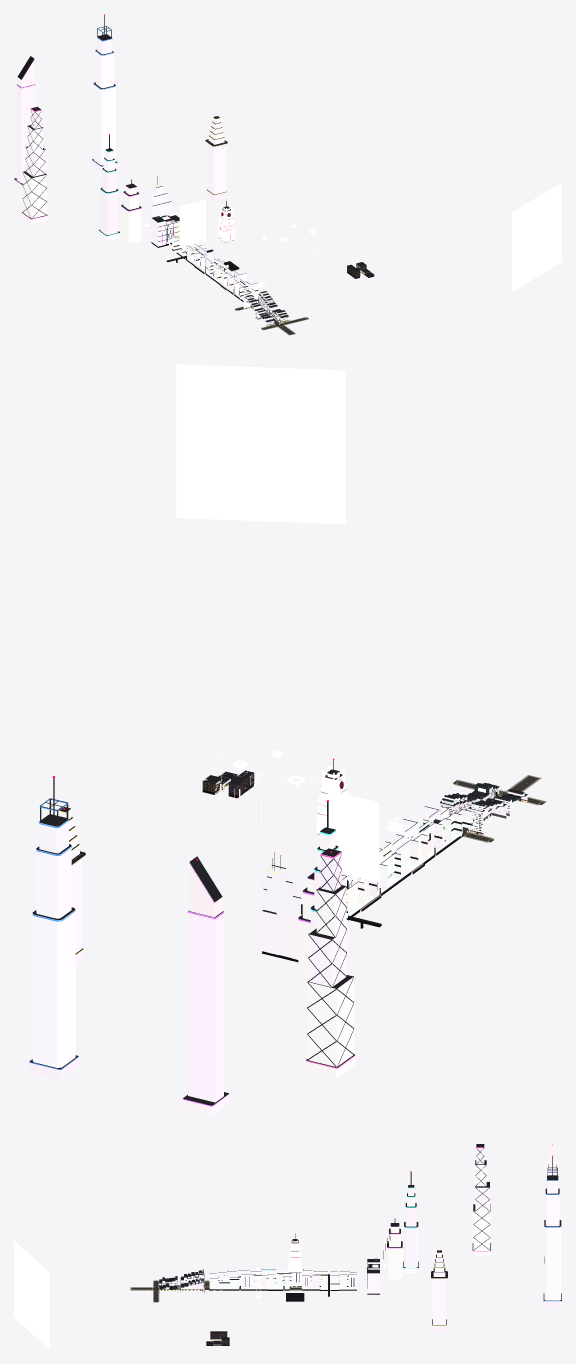
File: world-high.glb
3 renders of one model, top to bottom at view 1: azimuth 30°, elevation 25°; view 2: azimuth 150°, elevation 25°; view 3: azimuth 270°, elevation 25°, orthographic. The views are drawn at different scales.
Visible parts, largest first — view 1: skyline_facade, moon_disc, far_facade_end, far_facade, holo_figure, skyline_roof, avenue_facade, skyline_metal, far_glow, far_dark, far_trim, avenue_trim; view 2: skyline_facade, moon_disc, far_facade, far_facade_end, holo_figure, skyline_roof, skyline_metal, avenue_facade, far_glow; view 3: skyline_facade, moon_disc, far_facade, far_facade_end, skyline_roof, far_dark, far_trim, far_glow, skyline_metal, avenue_facade, avenue_roof, far_roof.
Boxes of the visible parts, left/top/right/bottom form: skyline_facade: left=14, top=37, right=226, bottom=240; moon_disc: left=511, top=182, right=561, bottom=291; far_facade_end: left=121, top=186, right=179, bottom=246; far_facade: left=172, top=232, right=259, bottom=300; holo_figure: left=179, top=199, right=205, bottom=247; skyline_roof: left=14, top=34, right=227, bottom=235; avenue_facade: left=243, top=292, right=288, bottom=324; skyline_metal: left=22, top=15, right=226, bottom=218; far_glow: left=218, top=204, right=235, bottom=241; far_dark: left=151, top=186, right=243, bottom=301; far_trim: left=166, top=212, right=258, bottom=296; avenue_trim: left=244, top=291, right=289, bottom=326; skyline_facade: left=29, top=809, right=355, bottom=1115; moon_disc: left=176, top=364, right=345, bottom=524; far_facade: left=341, top=807, right=471, bottom=925; far_facade_end: left=261, top=865, right=314, bottom=983; holo_figure: left=328, top=790, right=379, bottom=882; skyline_roof: left=29, top=807, right=354, bottom=1105; skyline_metal: left=40, top=778, right=353, bottom=1067; avenue_facade: left=440, top=787, right=527, bottom=832; far_glow: left=316, top=764, right=417, bottom=862; skyline_facade: left=403, top=1146, right=561, bottom=1330; moon_disc: left=14, top=1241, right=49, bottom=1349; far_facade: left=209, top=1270, right=356, bottom=1289; far_facade_end: left=367, top=1226, right=402, bottom=1293; skyline_roof: left=403, top=1144, right=561, bottom=1325; far_dark: left=209, top=1238, right=387, bottom=1301; far_trim: left=154, top=1251, right=356, bottom=1301; far_glow: left=288, top=1236, right=301, bottom=1272; skyline_metal: left=410, top=1148, right=557, bottom=1278; avenue_facade: left=159, top=1272, right=203, bottom=1289; avenue_roof: left=159, top=1270, right=203, bottom=1289; far_roof: left=291, top=1223, right=402, bottom=1273.
Bounding box in the file's own units: 1229 × 575 × 1936.
Materials: 55 (10 with a texture image).
